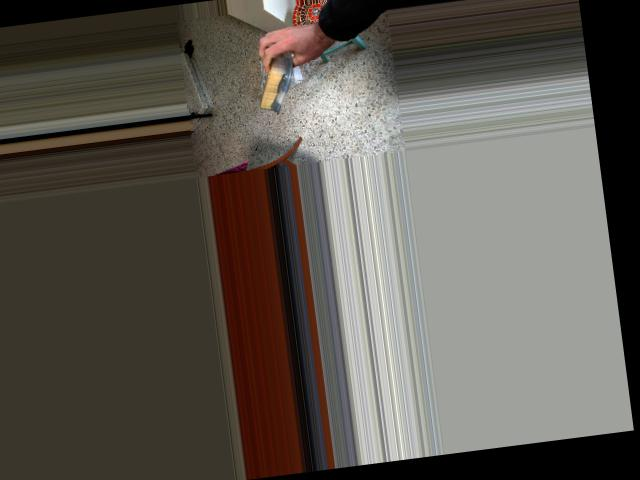cheese: (247, 37, 307, 120)
